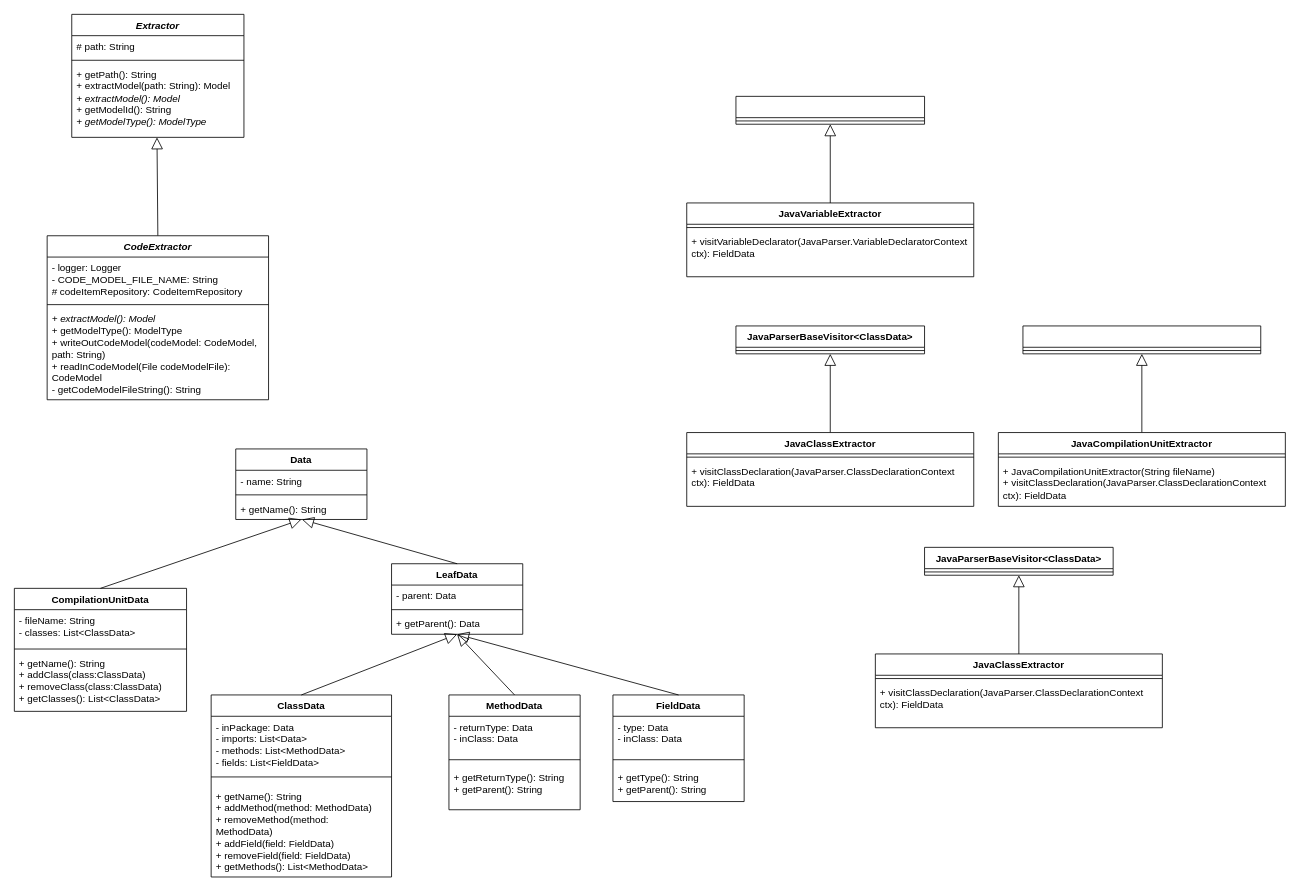
Some shapes in this 1300 by 894 pixel diagram are drawn without their labels. Each missing label, with the centre of its shape:
"JavaParserBaseVisitor<CompilationUnitData>" goes at point (1141, 339).
"JavaParserBaseVisitor<FieldData>" goes at point (830, 110).
